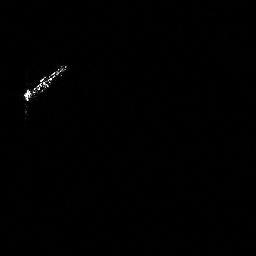ship: (23, 63, 68, 121)
